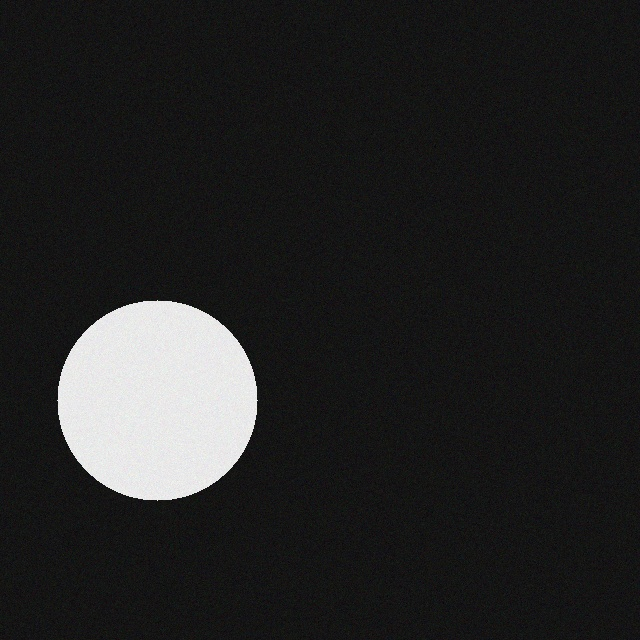circle: (47, 305, 247, 505)
